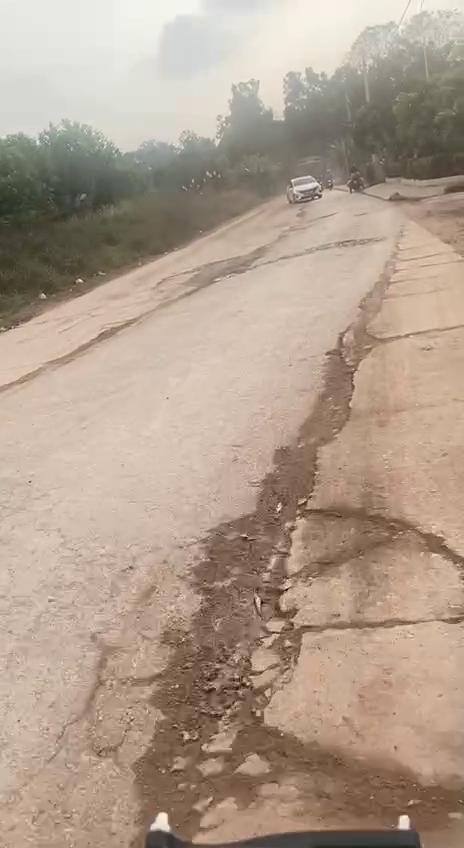pothole: (147, 498, 464, 848)
